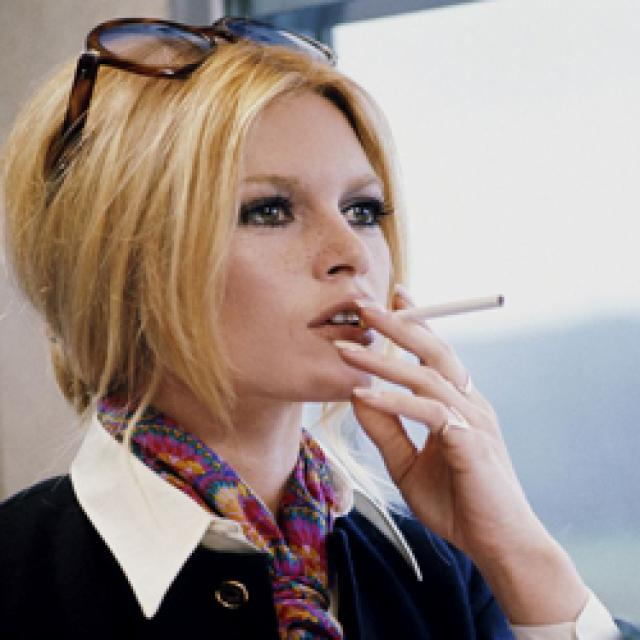Smooking: (398, 279, 508, 335)
